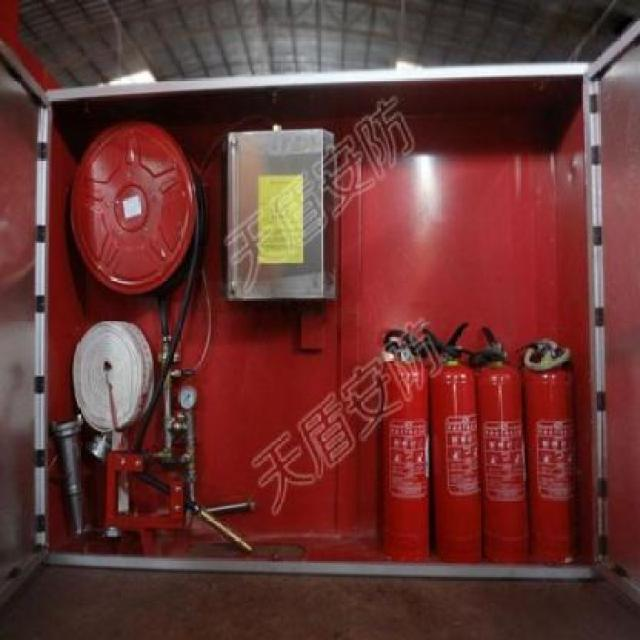firehydrant: (0, 16, 640, 618)
